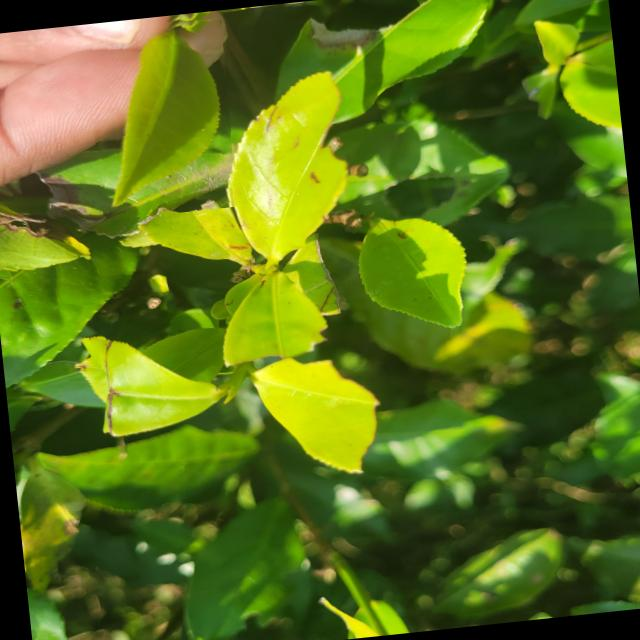Catagory A(1-2 days): (82, 9, 240, 219)
